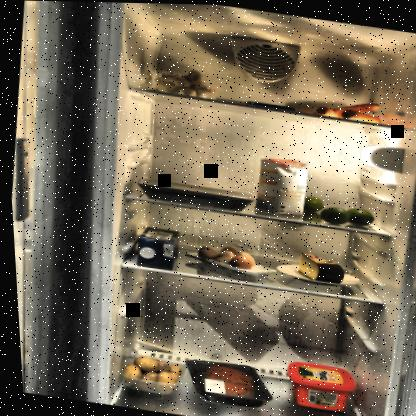beef: (175, 354, 273, 410)
butter: (276, 357, 353, 413)
carrot: (292, 89, 385, 123)
cheese: (290, 248, 344, 284)
chocolate: (242, 98, 295, 112)
eggs: (192, 240, 254, 272)
lime: (292, 189, 377, 230)
milk: (131, 223, 180, 269)
mushrooms: (150, 63, 222, 100)
potato: (111, 351, 181, 396)
